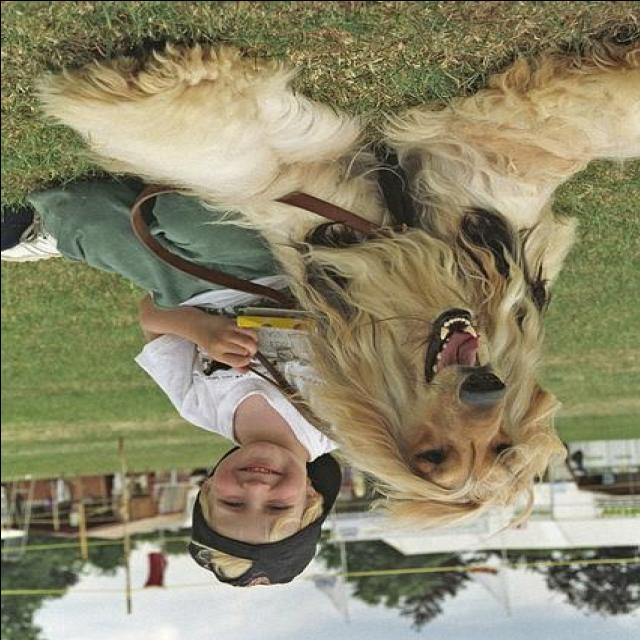afghan_hound: (31, 48, 638, 522)
